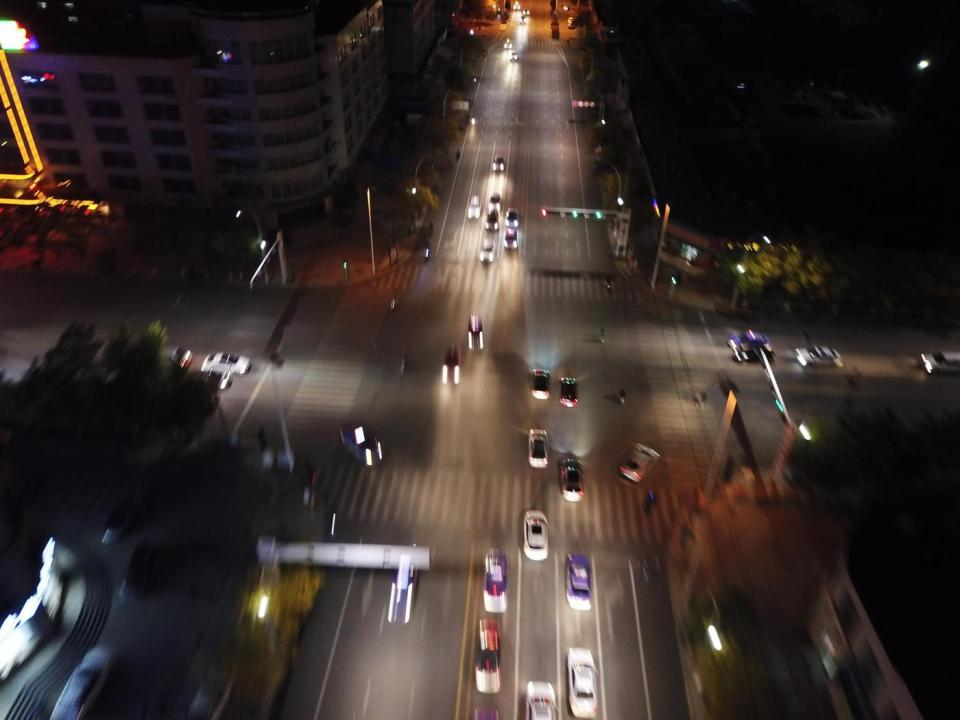car: (46, 644, 113, 720), (183, 667, 239, 720), (116, 543, 156, 601), (98, 493, 142, 544), (568, 647, 598, 718), (388, 546, 414, 624), (476, 617, 502, 692), (341, 426, 383, 467), (484, 546, 508, 612), (565, 552, 592, 608), (621, 444, 660, 481), (524, 509, 550, 562), (526, 681, 558, 720), (200, 351, 252, 373), (560, 456, 584, 502), (795, 344, 843, 367), (727, 329, 773, 352), (150, 345, 192, 370), (187, 370, 233, 391), (734, 342, 777, 364), (640, 555, 666, 591), (921, 350, 960, 373), (530, 427, 550, 469), (442, 344, 458, 382), (560, 375, 578, 407), (532, 367, 548, 400), (468, 315, 483, 346), (502, 226, 517, 247), (481, 238, 494, 262), (485, 209, 499, 231), (468, 195, 480, 219), (505, 207, 519, 226), (493, 154, 504, 172), (489, 192, 500, 210), (510, 50, 518, 61), (504, 38, 512, 48), (513, 1, 520, 10), (519, 16, 526, 22), (524, 8, 530, 15), (496, 8, 502, 15), (448, 30, 456, 35), (568, 23, 575, 28), (568, 17, 573, 23), (492, 2, 496, 8)
